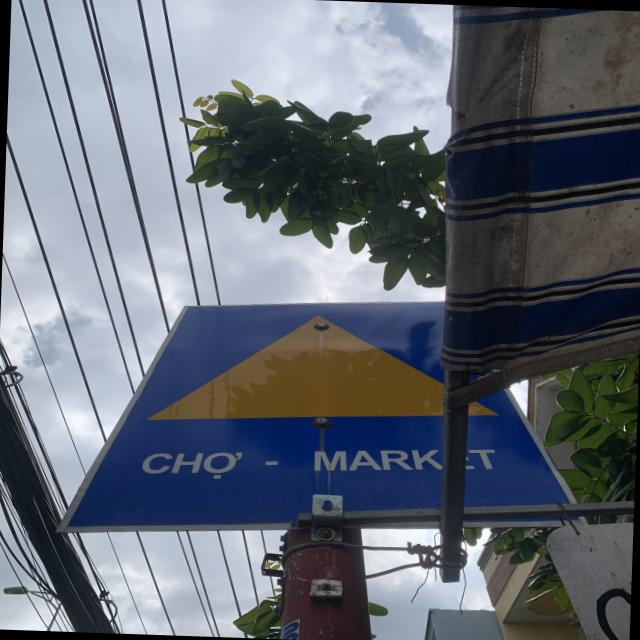Cho_Quay_Xe: (59, 294, 566, 544)
